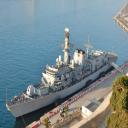Fragata: (5, 28, 121, 124)
